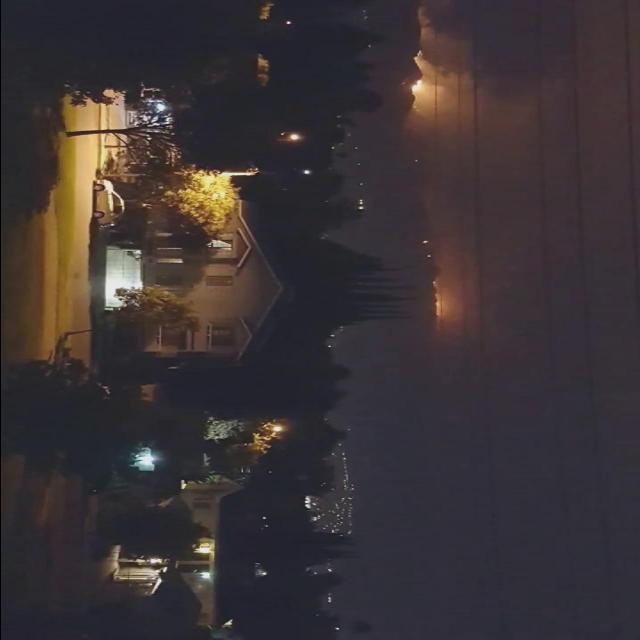Fire: (410, 80, 426, 96), (412, 50, 424, 70)
